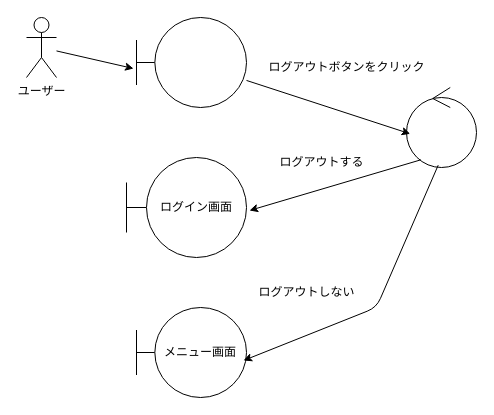
Image size: 494x415. Some labels were removed from this diagram. The shapes that lost their labels are listed below. From the top down, each one's centre as x and y in pixels, then its label:
At [191,62]: "ログアウト画面".
At [441,127]: "ログアウトをするかの確認".
